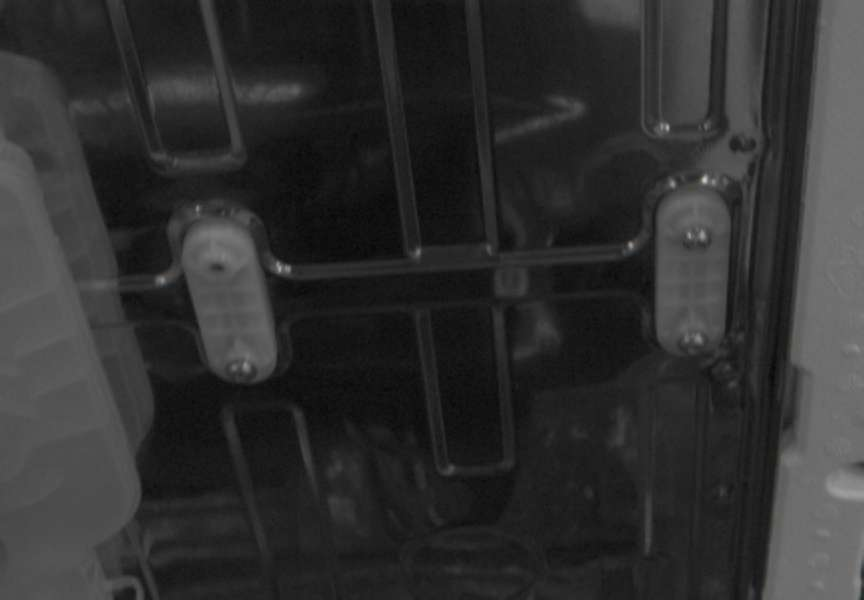missing_screw: (201, 255, 229, 282)
screw: (225, 358, 257, 384), (678, 330, 709, 355), (682, 226, 712, 250)
